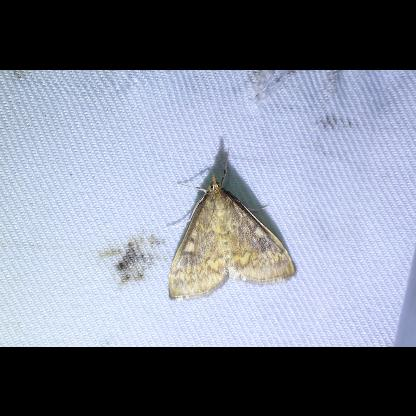Asian Corn Borer Moth: (164, 146, 298, 304)
